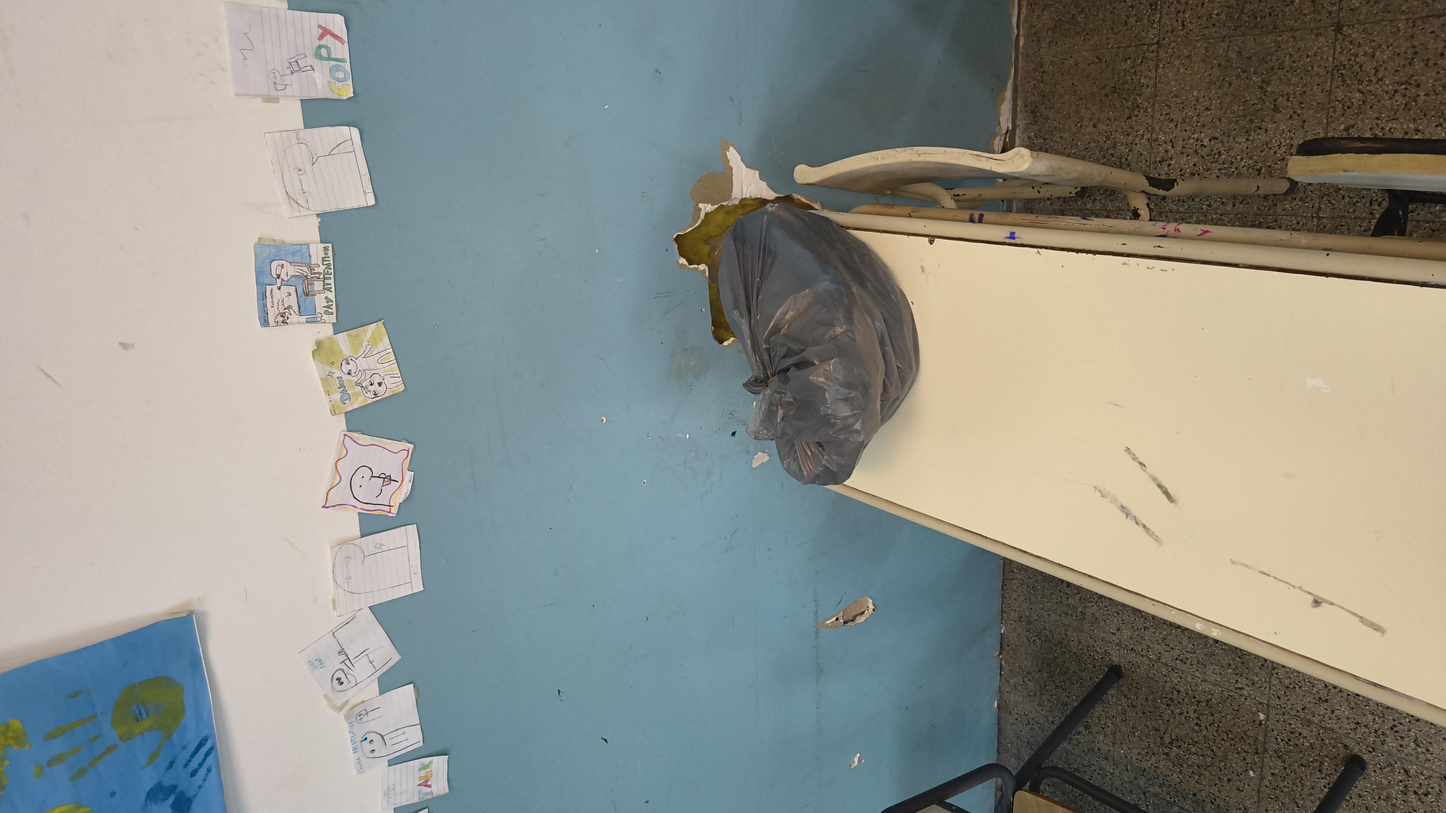Garbage: (521, 385, 1161, 530)
